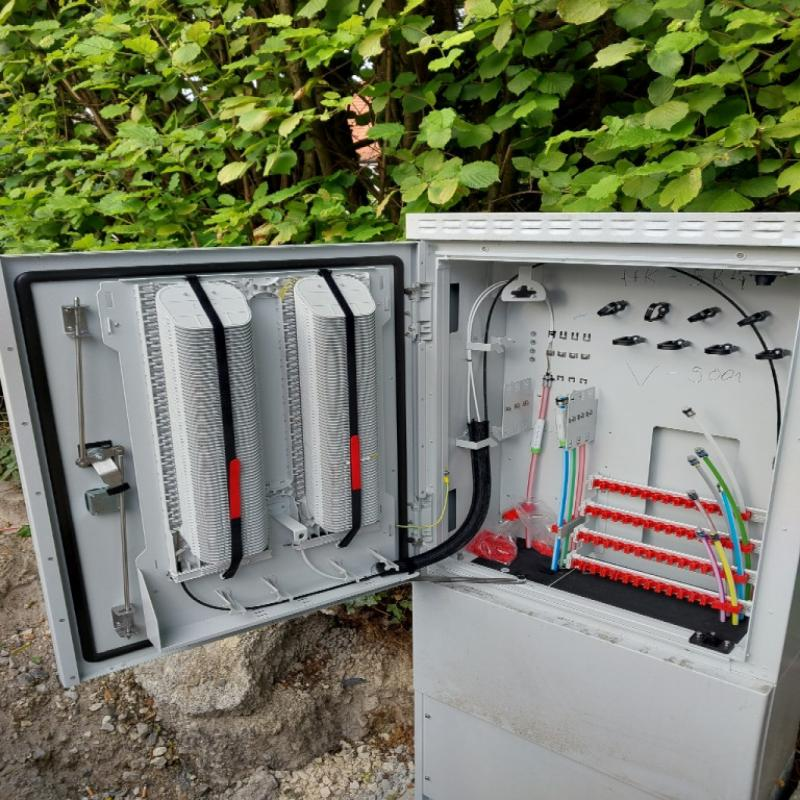NT-Gehause: (4, 215, 800, 800)
Spleiskassetten: (139, 276, 268, 565), (276, 270, 385, 534)
